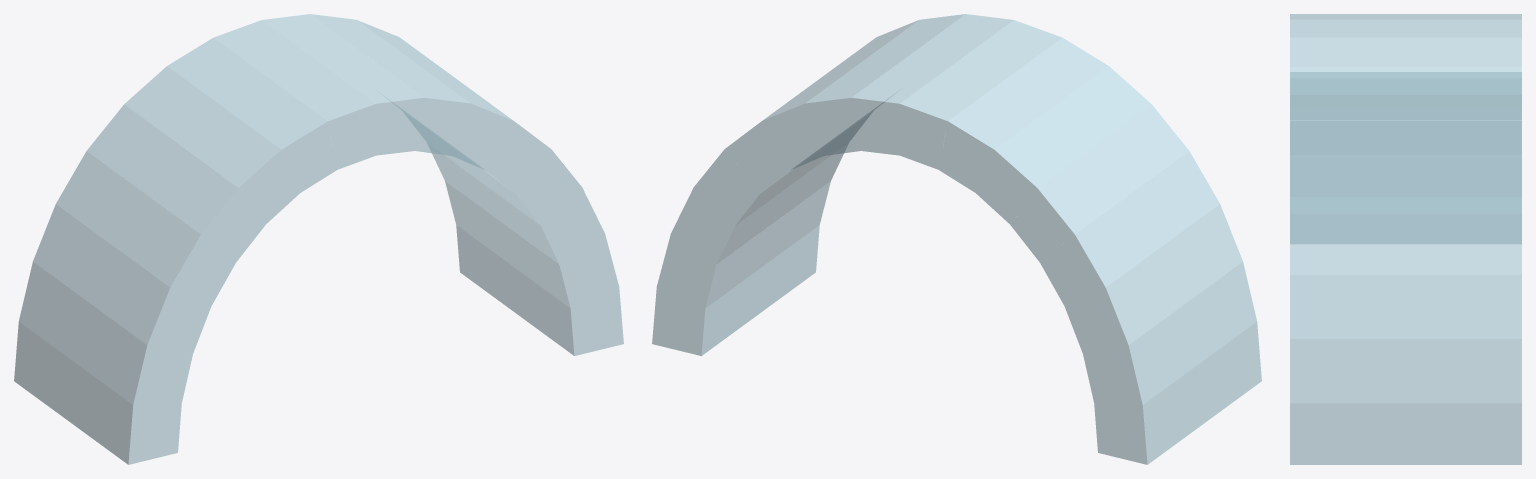
File: alpine-and-arctic-biomes-ice-cave-mouth-58152c96__21045.glb
The picture shows the model from 3 angles, left to right: view 1: azimuth 30°, elevation 25°; view 2: azimuth 150°, elevation 25°; view 3: azimuth 270°, elevation 25°; orthographic projection.
Visible parts, largest first — view 1: ice-cave-mouth; view 2: ice-cave-mouth; view 3: ice-cave-mouth.
Part boxes in pixels (box(x1,y1,x2,y2)): ice-cave-mouth: box(14, 14, 623, 464); ice-cave-mouth: box(652, 14, 1261, 464); ice-cave-mouth: box(1290, 14, 1521, 464).
Size of the model in its own units: 5 by 2.9 by 2.
